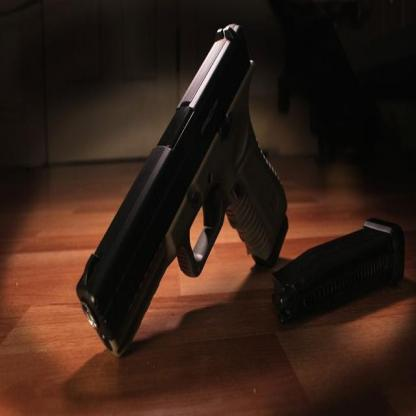handgun: (78, 21, 290, 345)
